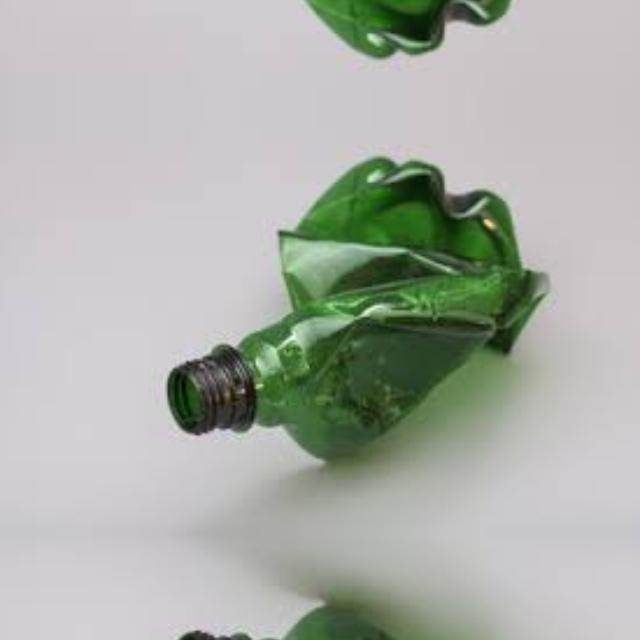Plastic: (162, 152, 556, 472), (161, 0, 556, 62), (161, 593, 556, 640)
